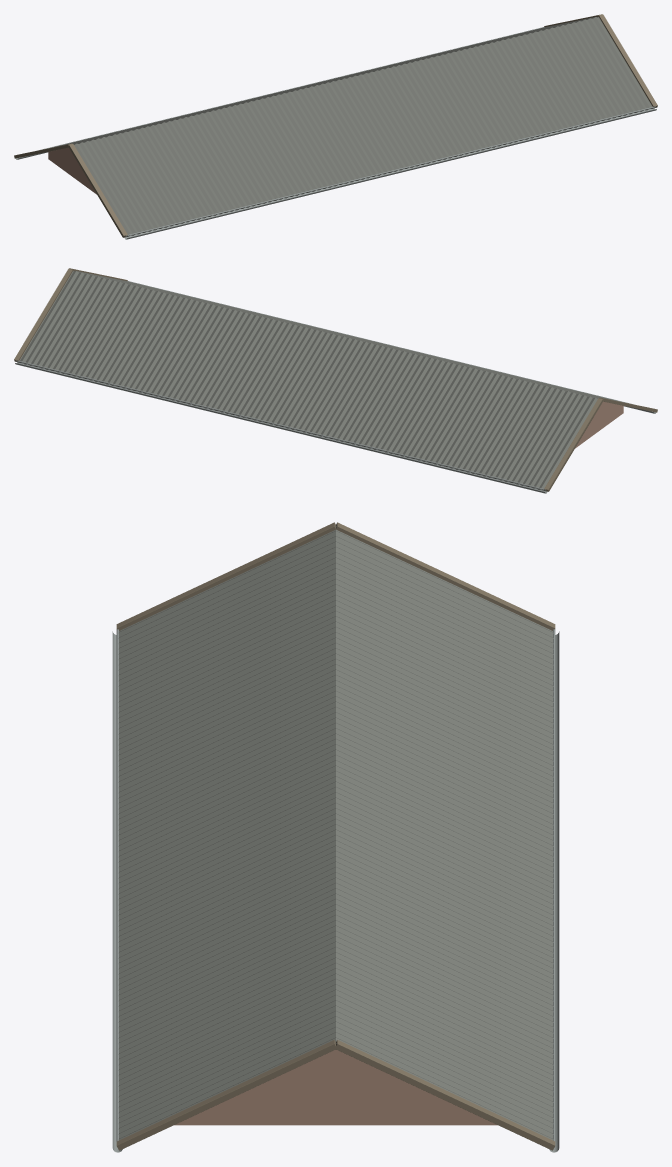
Rendered from station_house_roof.glb.
3 views of the same model, one above another, from view 1: azimuth 30°, elevation 25°; view 2: azimuth 150°, elevation 25°; view 3: azimuth 270°, elevation 25° (orthographic). The views are drawn at different scales.
Visible parts, largest first — view 1: station_house_roof; view 2: station_house_roof; view 3: station_house_roof.
Boxes of the visible parts, x1,y1,x2,y2 form: station_house_roof: (14, 14, 657, 239); station_house_roof: (14, 268, 657, 493); station_house_roof: (112, 522, 559, 1152).
Bounding box in the file's own units: 17.54 × 1.79 × 6.35.
